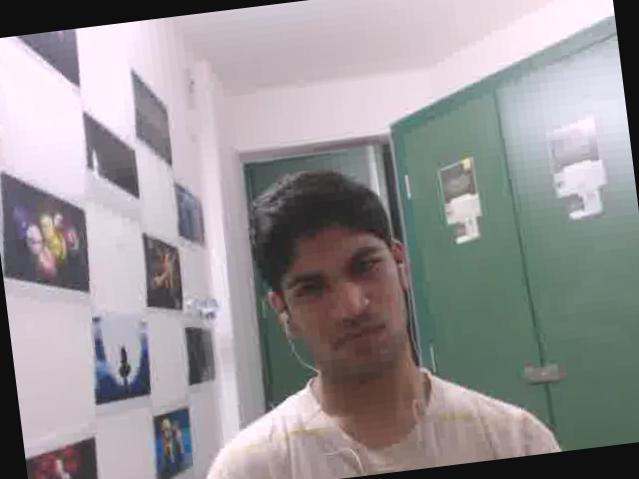bingung: (264, 213, 412, 384)
